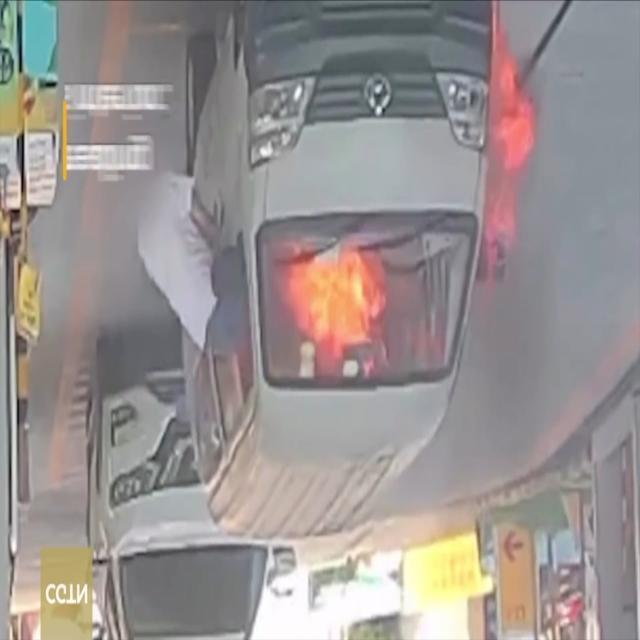fire: (278, 242, 430, 376), (481, 10, 534, 299)
